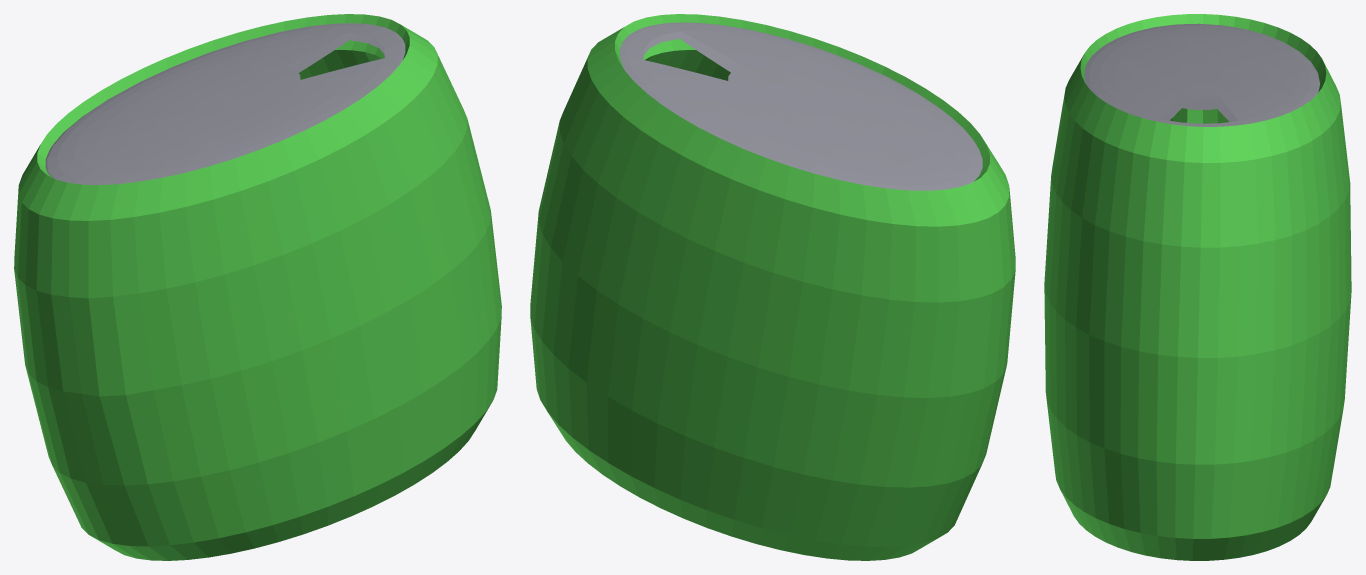
File: can.fbx
3 views of the same model, side by side, from view 1: azimuth 30°, elevation 25°; view 2: azimuth 150°, elevation 25°; view 3: azimuth 270°, elevation 25° (orthographic). The views are drawn at different scales.
Parts seen in each view (by area): view 1: Torus, Sphere.001; view 2: Torus, Sphere.001; view 3: Torus, Sphere.001.
Part boxes in pixels (x1,y1,x2,y2): Torus: (14, 14, 501, 560); Sphere.001: (45, 23, 405, 184); Torus: (530, 14, 1015, 560); Sphere.001: (620, 22, 982, 190); Torus: (1044, 14, 1351, 560); Sphere.001: (1084, 23, 1319, 126).
Size of the model in its own units: 138 by 128 by 76.4.
